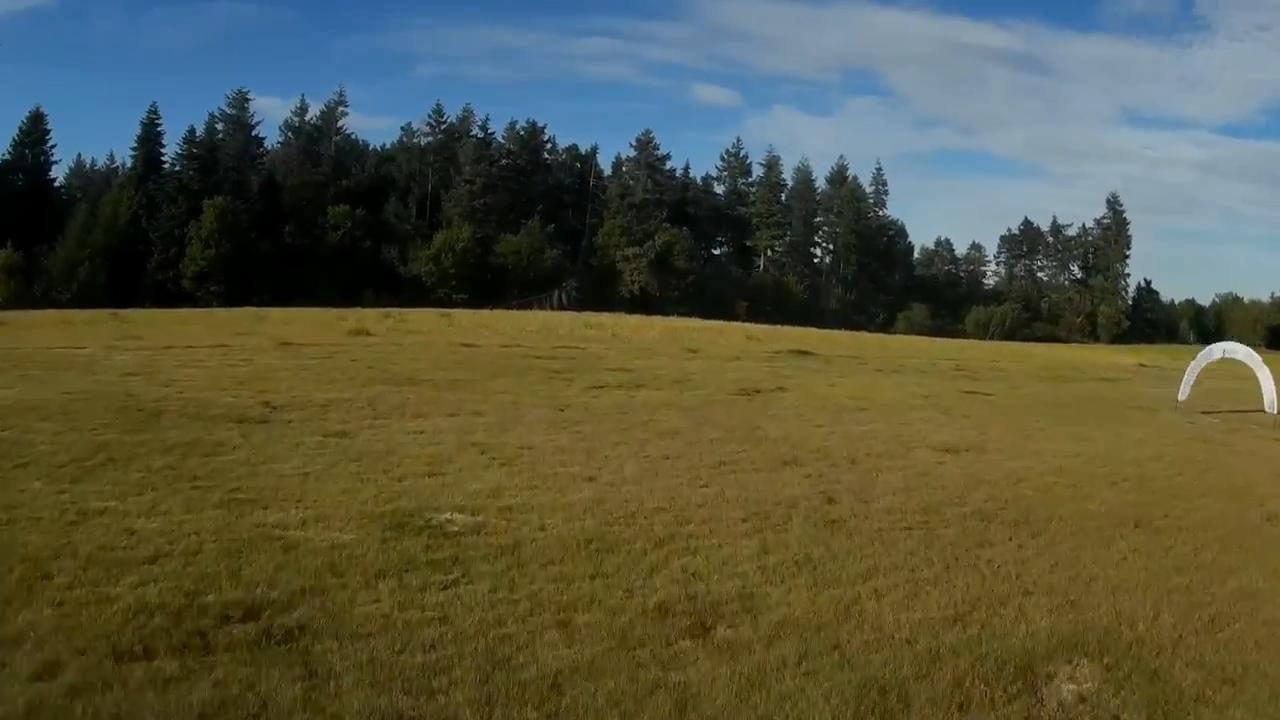gate: (1176, 341, 1278, 415)
